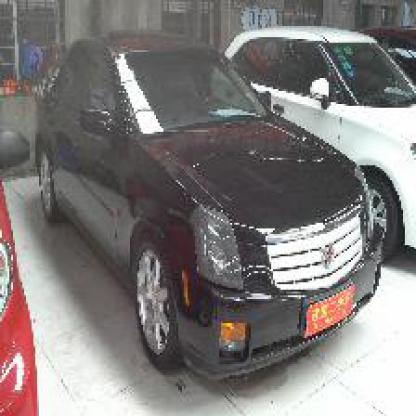not_emergency: (34, 24, 372, 390)
